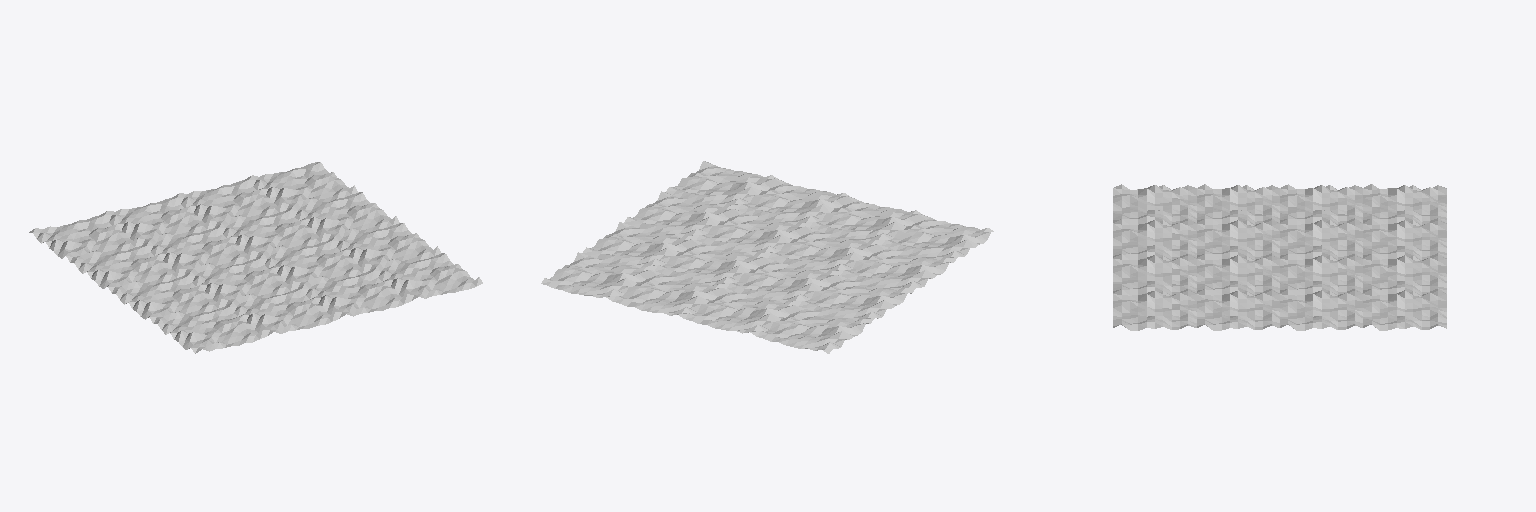
File: terrain.obj
3 renders of one model, left to right at view 1: azimuth 30°, elevation 25°; view 2: azimuth 150°, elevation 25°; view 3: azimuth 270°, elevation 25°, orthographic.
Parts seen in each view (by area): view 1: terrain; view 2: terrain; view 3: terrain.
Boxes of the visible parts, x1,y1,x2,y2 form: terrain: [29, 162, 482, 353]; terrain: [541, 161, 993, 353]; terrain: [1113, 184, 1446, 330].
Bounding box in the file's own units: 500 × 15.45 × 500.